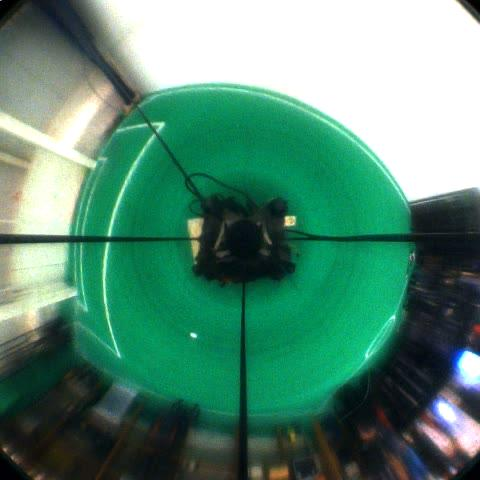ball: (286, 428, 300, 444)
person: (33, 0, 143, 114)
robot: (0, 317, 73, 383)
